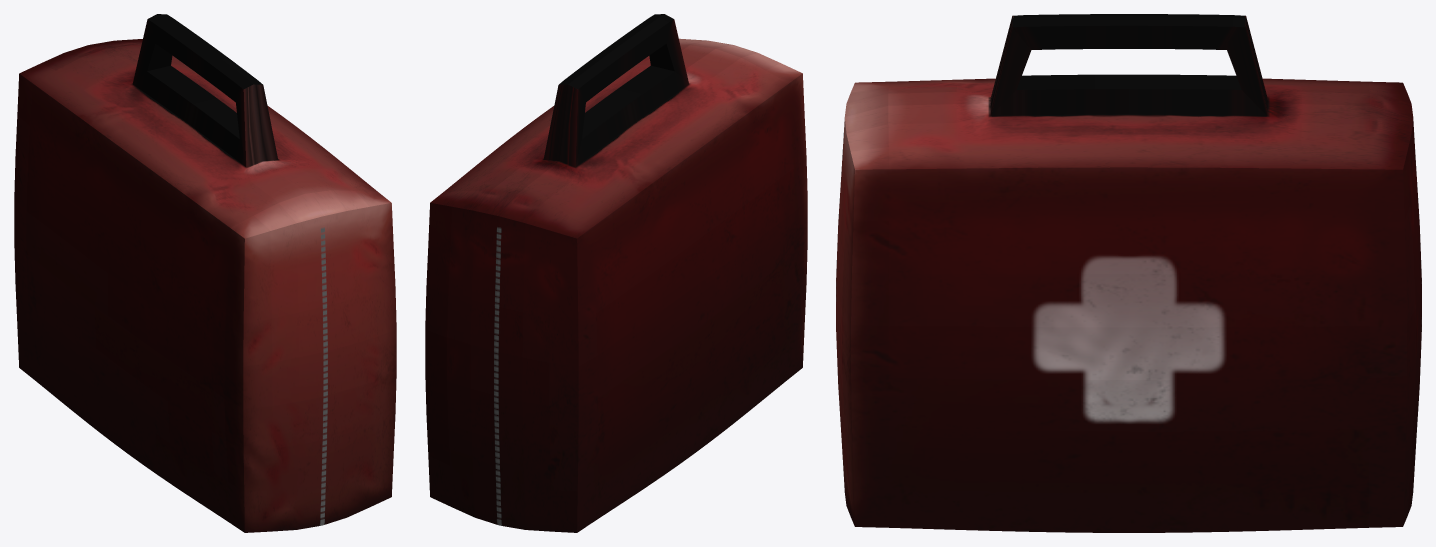
Rendered from lowaid.glb.
3 renders of one model, left to right at view 1: azimuth 30°, elevation 25°; view 2: azimuth 150°, elevation 25°; view 3: azimuth 270°, elevation 25°, orthographic. The views are drawn at different scales.
Visible parts, largest first — view 1: Object_2; view 2: Object_2; view 3: Object_2.
Boxes of the visible parts, x1,y1,x2,y2 form: Object_2: (14,14,396,532); Object_2: (425,14,807,532); Object_2: (836,14,1421,532).
Bounding box in the file's own units: 3.45 × 8.09 × 8.73.
Materials: 1 (1 with a texture image).
